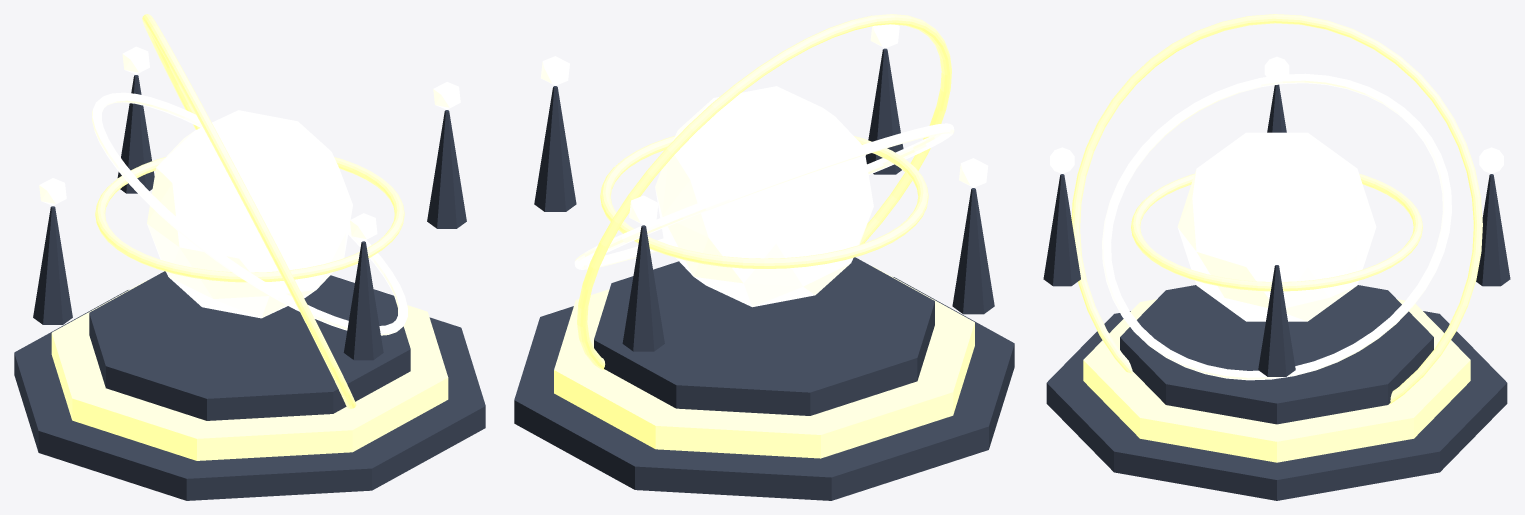
The model's file is gpu-blender-v50.glb.
The picture shows the model from 3 angles, left to right: view 1: azimuth 30°, elevation 25°; view 2: azimuth 150°, elevation 25°; view 3: azimuth 270°, elevation 25°; orthographic projection. The views are drawn at different scales.
Parts seen in each view (by area): view 1: Cylinder.002, SovereignCore_zoth-os-website, Cylinder, Cylinder.001, Torus.001, Torus.002, Torus, Cone.003, Cone, Cone.002, Cone.001, Icosphere.002 (+3 smaller); view 2: Cylinder.002, SovereignCore_zoth-os-website, Cylinder, Cylinder.001, Torus.002, Torus, Torus.001, Cone.002, Cone.001, Cone, Cone.003, Icosphere (+3 smaller); view 3: SovereignCore_zoth-os-website, Cylinder.002, Cylinder, Cylinder.001, Torus.001, Torus.002, Torus, Cone.003, Cone, Cone.001, Cone.002, Icosphere (+2 smaller).
Part boxes in pixels (left/top/right/bottom): Cylinder.002: left=89, top=271, right=410, bottom=420; SovereignCore_zoth-os-website: left=147, top=110, right=352, bottom=318; Cylinder: left=14, top=290, right=485, bottom=500; Cylinder.001: left=51, top=280, right=448, bottom=460; Torus.001: left=92, top=92, right=407, bottom=335; Torus.002: left=142, top=14, right=356, bottom=408; Torus: left=95, top=157, right=404, bottom=282; Cone.003: left=343, top=241, right=383, bottom=360; Cone: left=427, top=110, right=466, bottom=228; Cone.002: left=33, top=206, right=72, bottom=324; Cone.001: left=117, top=75, right=154, bottom=193; Icosphere.002: left=39, top=178, right=66, bottom=205; Cylinder.002: left=594, top=257, right=934, bottom=415; SovereignCore_zoth-os-website: left=655, top=86, right=873, bottom=307; Cylinder: left=514, top=277, right=1014, bottom=500; Cylinder.001: left=554, top=266, right=974, bottom=458; Torus.002: left=577, top=14, right=951, bottom=369; Torus: left=600, top=136, right=928, bottom=268; Torus.001: left=574, top=123, right=954, bottom=269; Cone.002: left=952, top=188, right=994, bottom=314; Cone.001: left=622, top=225, right=664, bottom=351; Cone: left=534, top=86, right=576, bottom=211; Cone.003: left=865, top=48, right=903, bottom=174; Icosphere: left=540, top=56, right=569, bottom=85; SovereignCore_zoth-os-website: left=1177, top=132, right=1376, bottom=321; Cylinder.002: left=1120, top=285, right=1433, bottom=424; Cylinder: left=1046, top=311, right=1507, bottom=500; Cylinder.001: left=1083, top=299, right=1470, bottom=462; Torus.001: left=1102, top=73, right=1451, bottom=380; Torus.002: left=1071, top=14, right=1482, bottom=403; Torus: left=1131, top=174, right=1422, bottom=291; Cone.003: left=1043, top=174, right=1080, bottom=286; Cone: left=1258, top=265, right=1295, bottom=376; Cone.001: left=1476, top=174, right=1510, bottom=286; Cone.002: left=1267, top=84, right=1286, bottom=132; Icosphere: left=1264, top=238, right=1289, bottom=264.
Bounding box in the file's own units: 4.41 × 3.72 × 4.46.
